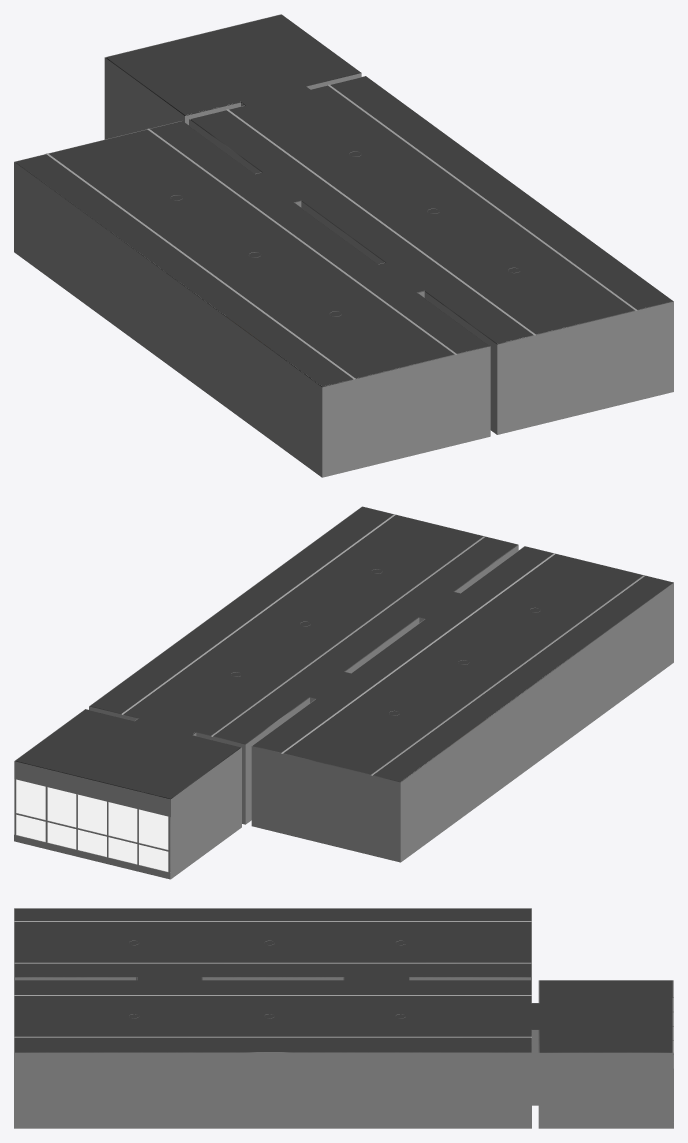
Rendered from gallery.glb.
3 views of the same model, one above another, from view 1: azimuth 30°, elevation 25°; view 2: azimuth 150°, elevation 25°; view 3: azimuth 270°, elevation 25° (orthographic). The views are drawn at different scales.
Visible parts, largest first — view 1: Wall.002, Wall.001, Lights.002, Lights.001, Lights.004, Lights.003; view 2: Wall.002, Wall.001, Window.001, Lights.002, Lights.001, Lights.004, Lights.003; view 3: Wall.002, Wall.001, Lights.001, Lights.003, Lights.002, Lights.004.
Boxes of the visible parts, box(x1,y1,x2,y2) form: Wall.002: box(15, 14, 672, 387); Wall.001: box(14, 14, 673, 477); Lights.002: box(226, 109, 535, 335); Lights.001: box(327, 84, 637, 310); Lights.004: box(46, 153, 355, 379); Lights.003: box(147, 128, 456, 354); Wall.002: box(15, 507, 672, 871); Wall.001: box(14, 506, 673, 878); Window.001: box(14, 779, 170, 879); Lights.002: box(211, 536, 485, 736); Lights.001: box(121, 514, 396, 714); Lights.004: box(370, 575, 645, 775); Lights.003: box(281, 553, 555, 753); Wall.002: box(15, 908, 672, 1052); Wall.001: box(14, 908, 673, 1128); Lights.001: box(14, 1036, 531, 1037); Lights.003: box(14, 962, 531, 963); Lights.002: box(14, 995, 531, 996); Lights.004: box(14, 921, 531, 922).
Bounding box in the file's own units: 24.1 × 5.95 × 46.59.
34 materials, 4 textured.
